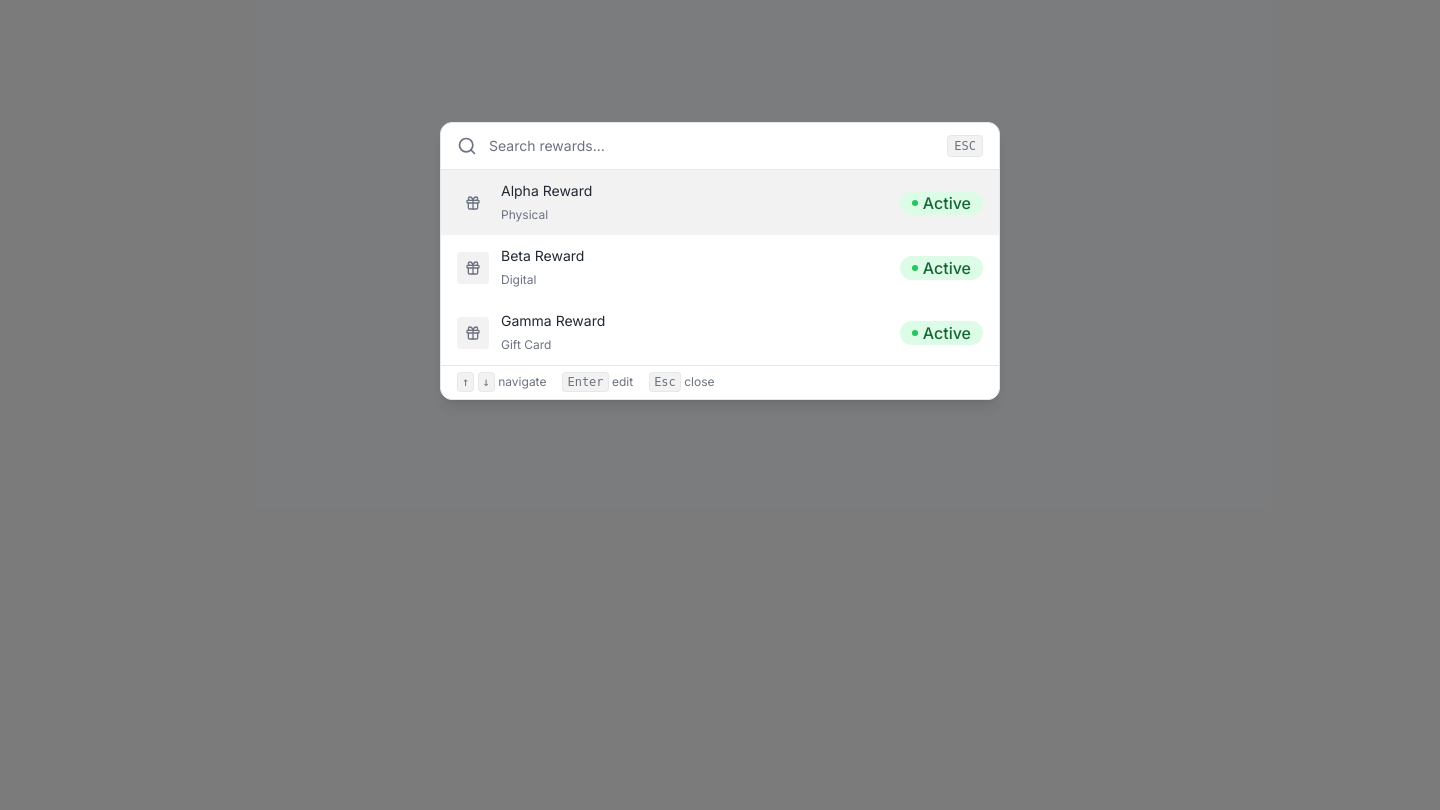
Test: QuickSearch › filters rewards by name as user types
In the field with placeholder "Search rewards...": (712, 146) [489,135,935,156], type "Alpha"
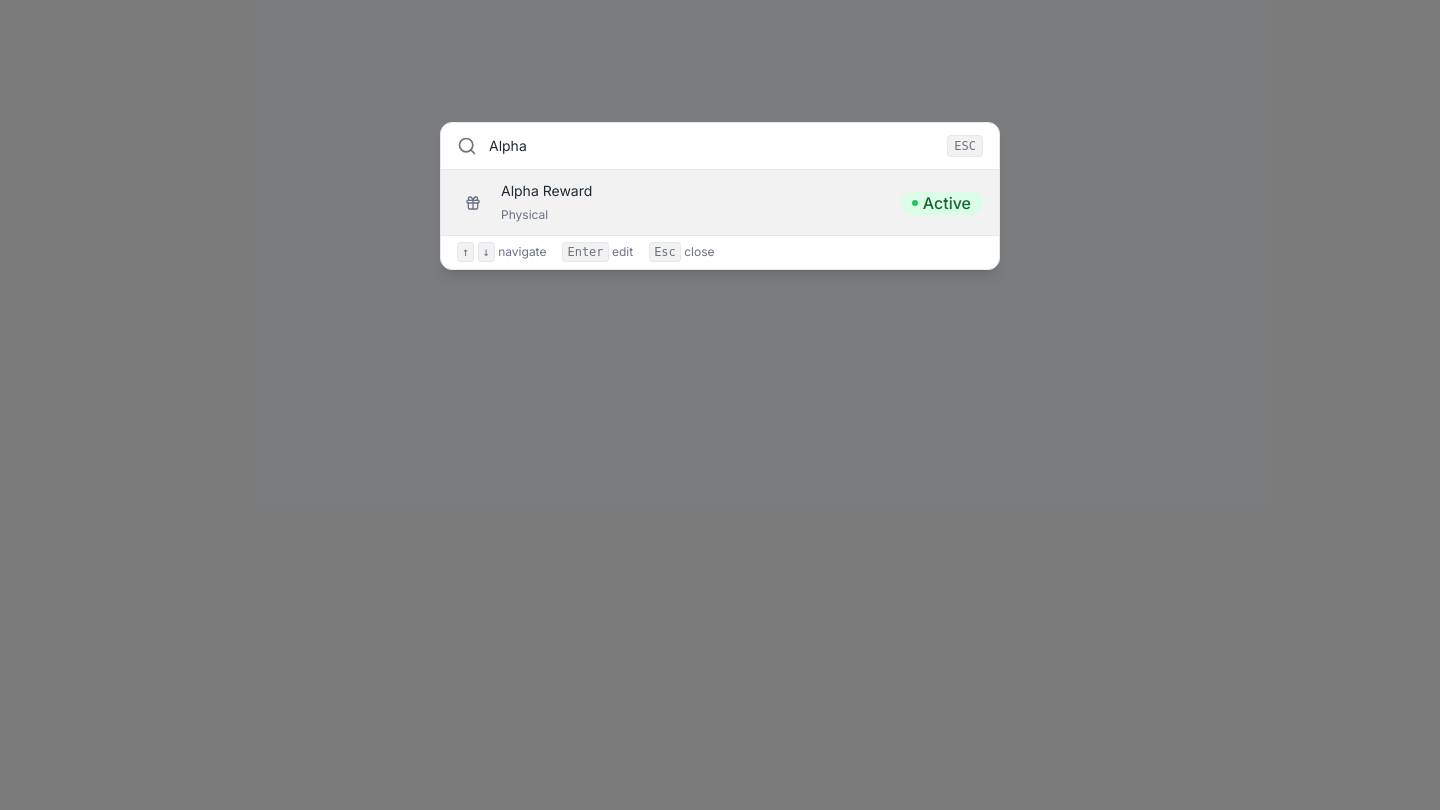
Check: the text "Alpha Reward" is shown, box [501,182,592,199]
Check: the text "Beta Reward" is gone
Check: the text "Gamma Reward" is gone
